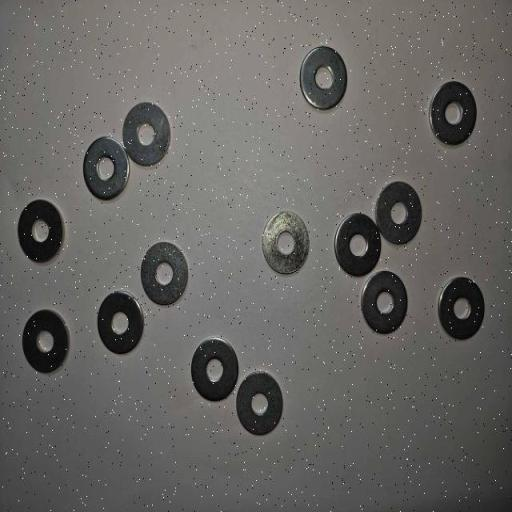Washer: (20, 308, 71, 375), (260, 210, 311, 277), (139, 241, 190, 307), (436, 276, 487, 342), (190, 337, 240, 404), (235, 370, 285, 437), (81, 136, 132, 201), (429, 80, 479, 146), (95, 290, 145, 356), (374, 180, 424, 246), (360, 269, 409, 336), (122, 102, 172, 167), (16, 198, 66, 263), (299, 45, 348, 111), (333, 212, 382, 278)
